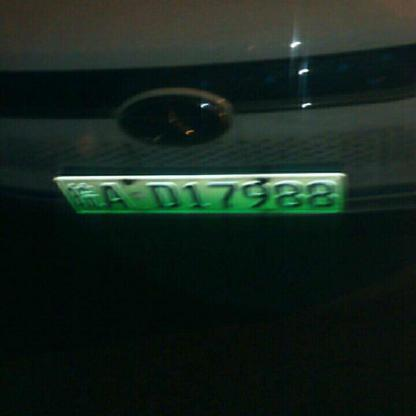lp: (54, 176, 76, 214)
